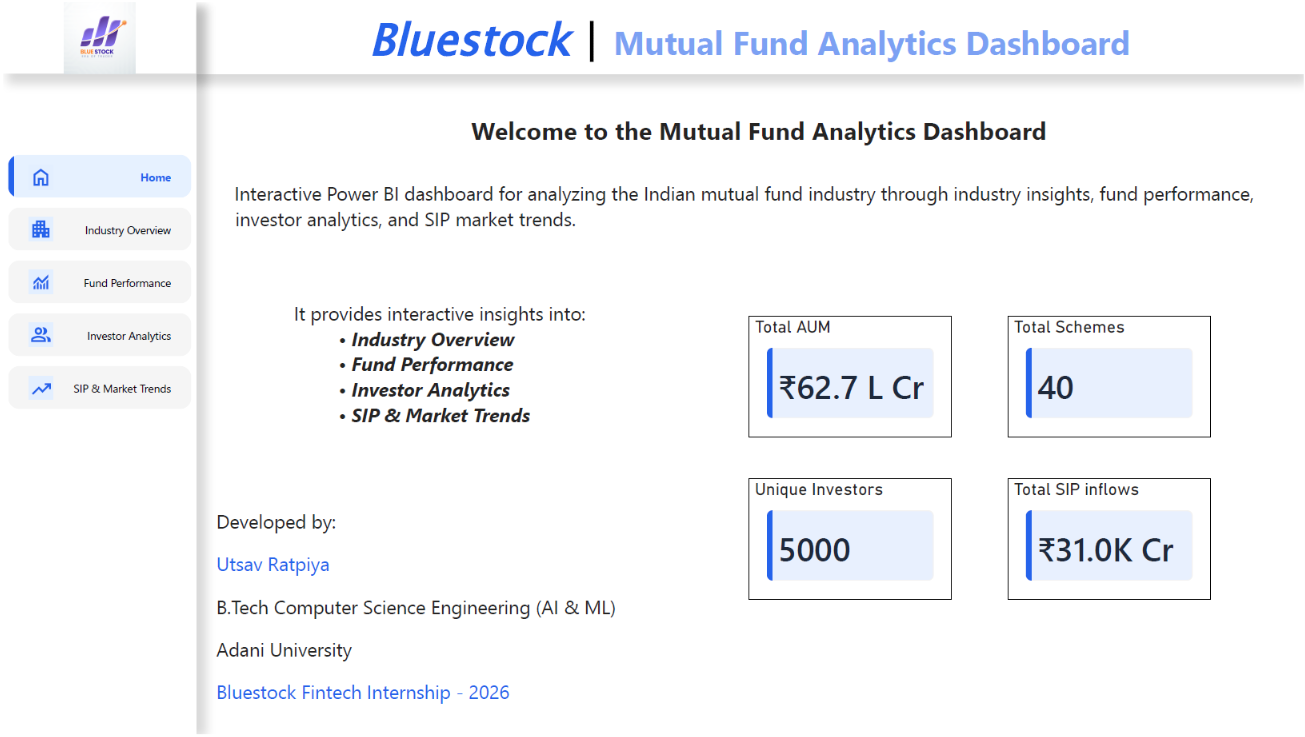

This screenshot's page, from the dashboard's own definition file:
{"tool":"powerbi","page":{"name":"Home","canvas":[1280,720],"ordinal":0},"visuals":[{"type":"shape","box":[0,0,1280,70],"z":0},{"type":"pageNavigator","box":[5,150,180,250],"z":0,"group":"g1"},{"type":"shape","box":[0,0,190,720],"z":1000},{"type":"image","box":[25,160,24,24],"z":1000,"group":"g1"},{"type":"image","box":[0,0,190,70],"z":2000},{"type":"image","box":[25,263,24,24],"z":2000,"group":"g1"},{"type":"group","id":"g1","title":"Group 1","box":[5,150,180,250],"z":3000},{"type":"image","box":[25,367.5,23.8,23.8],"z":3000,"group":"g1"},{"type":"textbox","box":[207.5,70,1072.5,388.8],"z":4000},{"type":"image","box":[25,315,23.8,23.8],"z":4000,"group":"g1"},{"type":"image","box":[25,211.2,23.8,23.8],"z":5000,"group":"g1"},{"type":"cardVisual","title":"Total AUM","fields":{"Data":["Measure_Table.Total AUM (Display)"]},"box":[733.8,307.5,200,120],"z":5000},{"type":"cardVisual","title":"Total Schemes","fields":{"Data":["Measure_Table.Total Schemes"]},"box":[988.8,307.5,200,120],"z":6000},{"type":"cardVisual","title":"Unique Investors","fields":{"Data":["Measure_Table.Unique Investors"]},"box":[733.8,467.5,200,120],"z":7000},{"type":"cardVisual","title":"Total SIP inflows","fields":{"Data":["Measure_Table.Total SIP Display"]},"box":[988.8,467.5,200,120],"z":8000},{"type":"textbox","box":[190,458.8,470,261.2],"z":9000},{"type":"textbox","box":[190,0,1090,81.2],"z":10000}]}

Visuals, with their boxes in screenshot pixels (x1, y1, x2, y2), scaled from the page's 1280x720 canvas onto the 1305x737 screenshot:
shape: Rect(0, 0, 1304, 72)
pageNavigator: Rect(5, 154, 189, 409)
shape: Rect(0, 0, 194, 736)
image: Rect(25, 164, 50, 188)
image: Rect(0, 0, 194, 72)
image: Rect(25, 269, 50, 294)
"Group 1" group: Rect(5, 154, 189, 409)
image: Rect(25, 376, 50, 401)
textbox: Rect(212, 72, 1304, 470)
image: Rect(25, 322, 50, 347)
image: Rect(25, 216, 50, 241)
"Total AUM" cardVisual: Rect(748, 315, 952, 438)
"Total Schemes" cardVisual: Rect(1008, 315, 1212, 438)
"Unique Investors" cardVisual: Rect(748, 479, 952, 601)
"Total SIP inflows" cardVisual: Rect(1008, 479, 1212, 601)
textbox: Rect(194, 470, 673, 736)
textbox: Rect(194, 0, 1304, 83)
